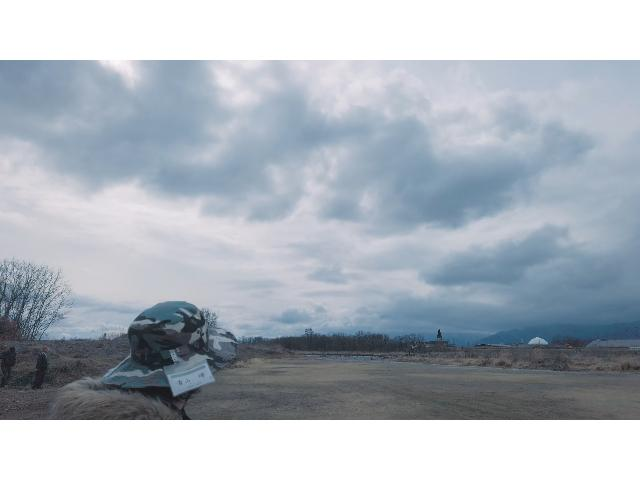Anti-Drone: (290, 275, 300, 285)
